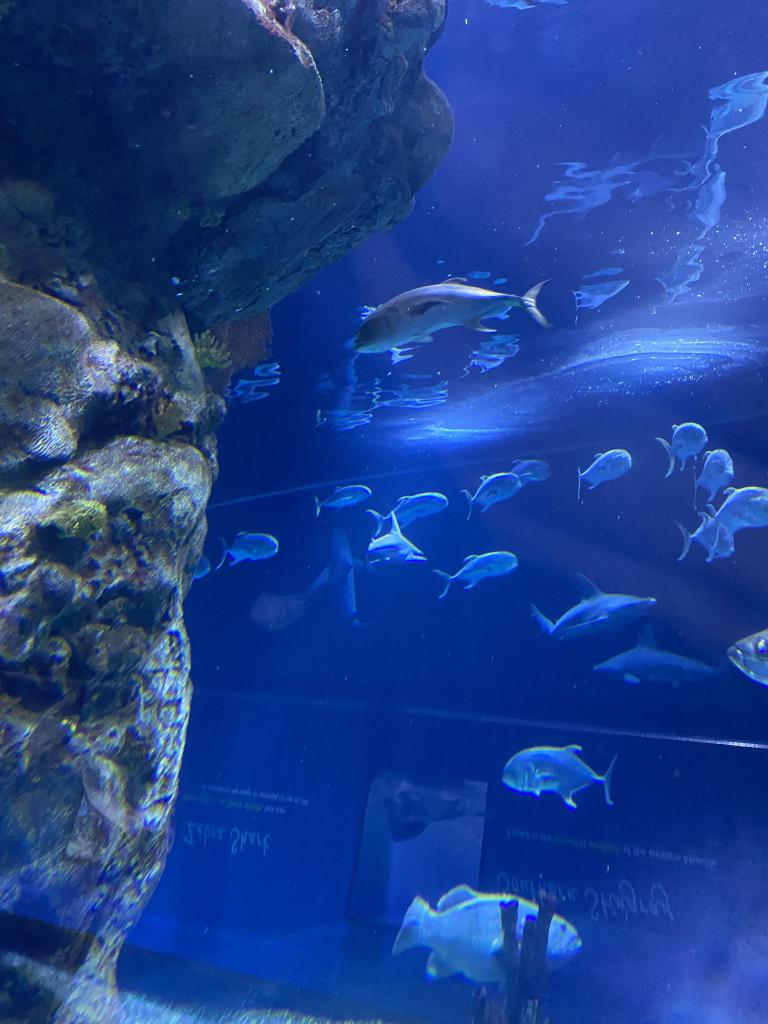fish: (394, 888, 580, 982), (353, 274, 550, 354), (504, 744, 618, 806), (433, 550, 517, 600), (367, 492, 447, 536), (678, 510, 736, 562), (709, 486, 767, 534), (576, 448, 632, 496), (658, 423, 708, 475), (730, 626, 768, 690), (219, 531, 278, 571), (463, 475, 519, 517), (692, 450, 734, 502), (312, 486, 370, 514), (507, 460, 551, 484)
shark: (530, 572, 656, 644), (592, 623, 732, 685), (312, 526, 384, 630), (365, 510, 427, 566)
